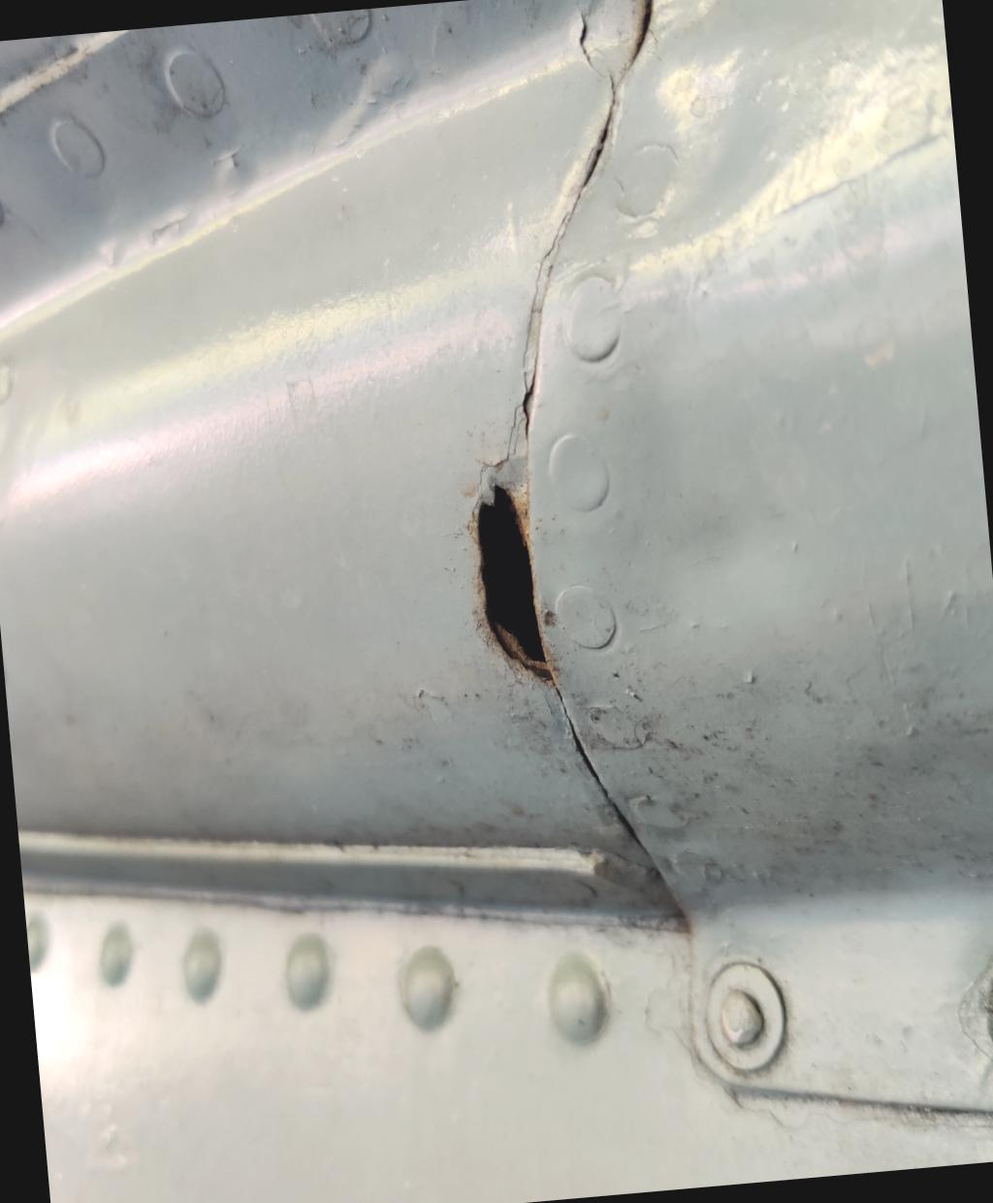crack: (446, 441, 606, 726)
